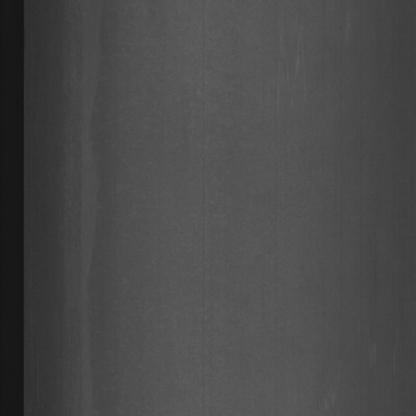silk_spot: (251, 36, 324, 129)
